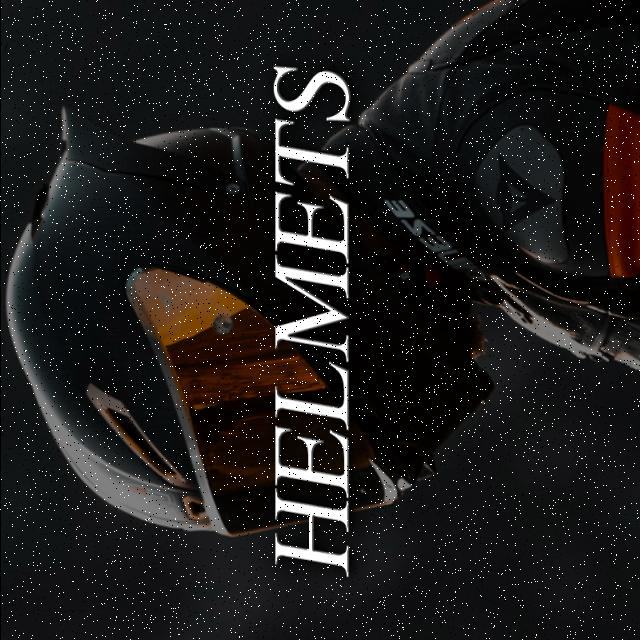Helmet: (12, 54, 486, 636)
